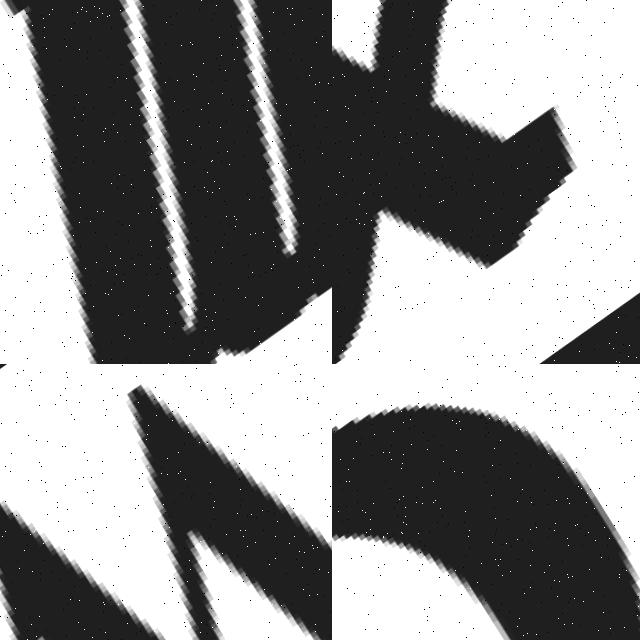C: (332, 406, 640, 640)
M: (0, 0, 332, 364)
W: (0, 364, 332, 640)
X: (332, 0, 640, 364)
